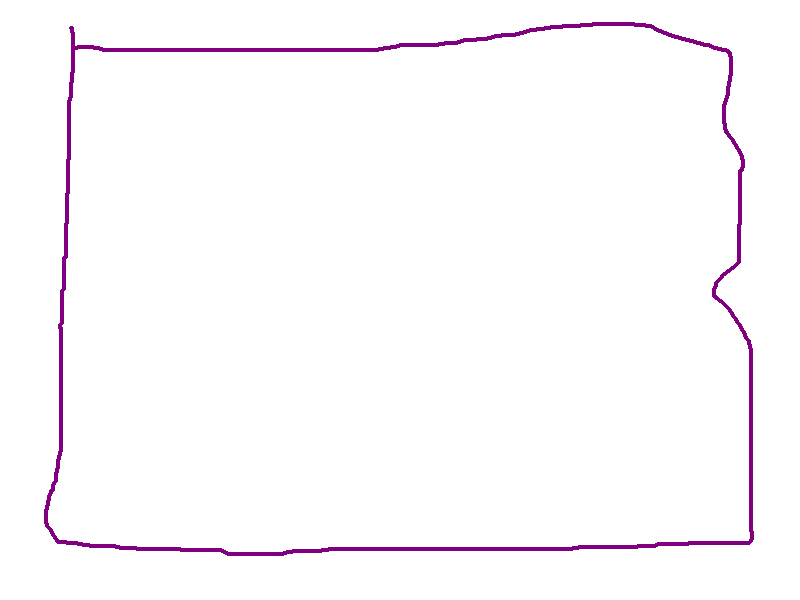rect: (41, 18, 764, 561)
